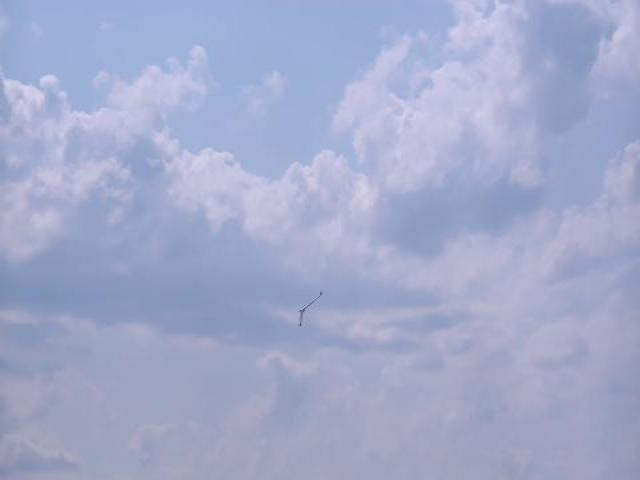flying wing: (297, 289, 324, 331)
